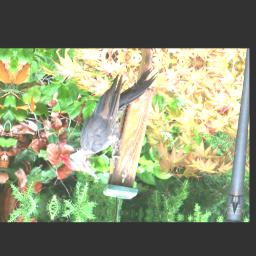Woodpecker: (58, 61, 159, 183)
